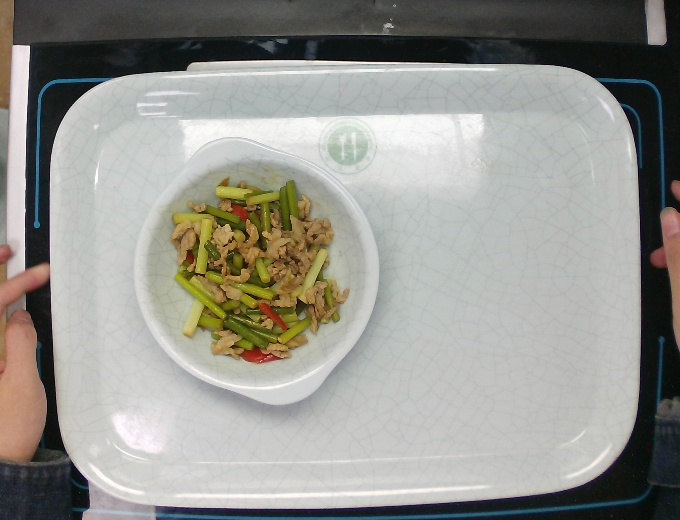JYsf-Shuang_Er_Wan: (131, 135, 381, 407)
